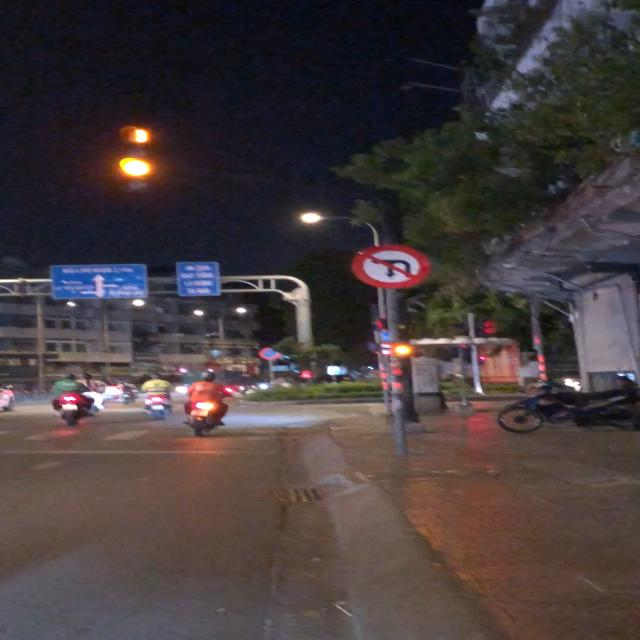Bien bao cam re trai va quay dau: (345, 242, 437, 291)
